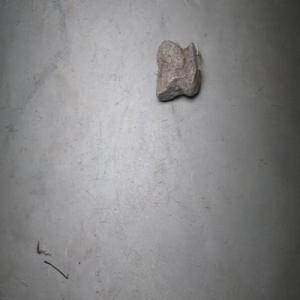Rock: (155, 39, 202, 101)
